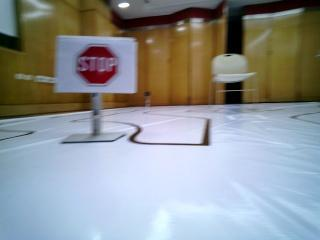stop: (64, 37, 126, 89)
